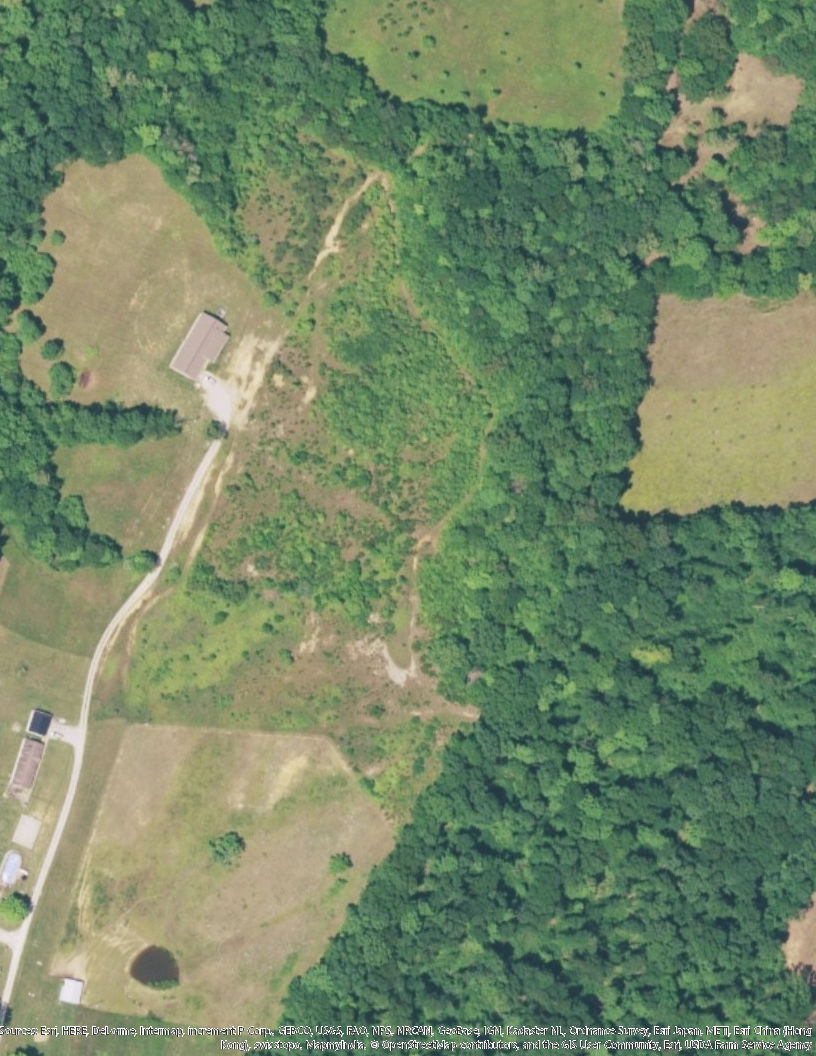cafo: (166, 307, 236, 380)
